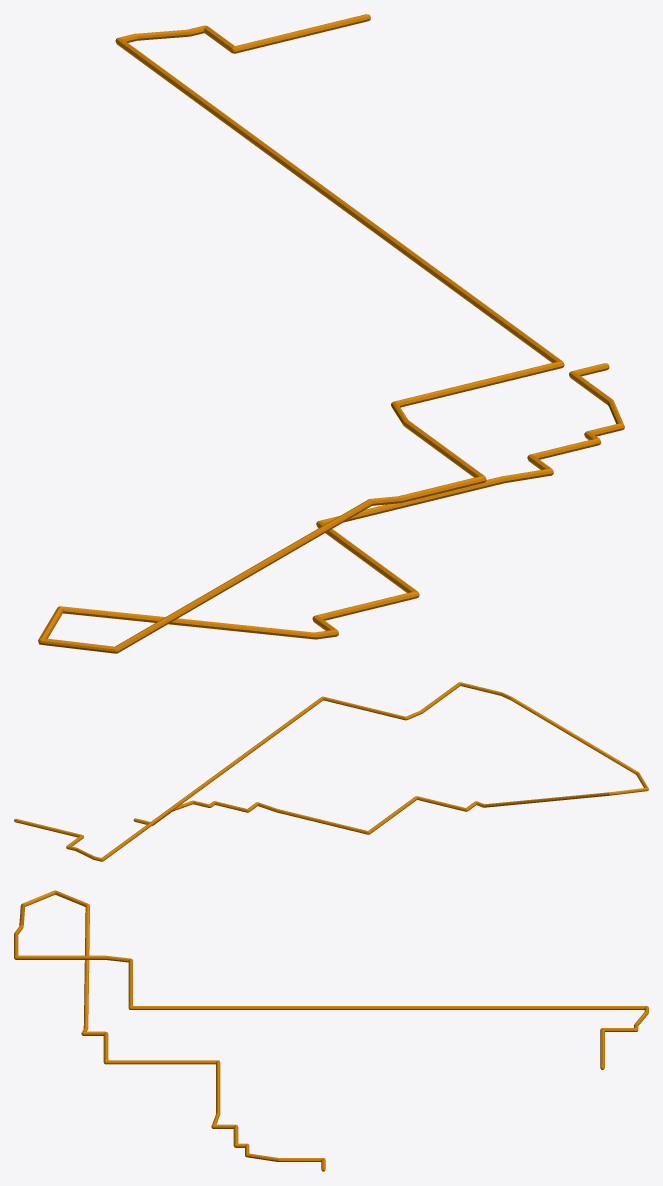
3 views of the same model, one above another, from view 1: azimuth 30°, elevation 25°; view 2: azimuth 150°, elevation 25°; view 3: azimuth 270°, elevation 25° (orthographic). The views are drawn at different scales.
Size of the model in its own units: 2407 by 520 by 2831.
